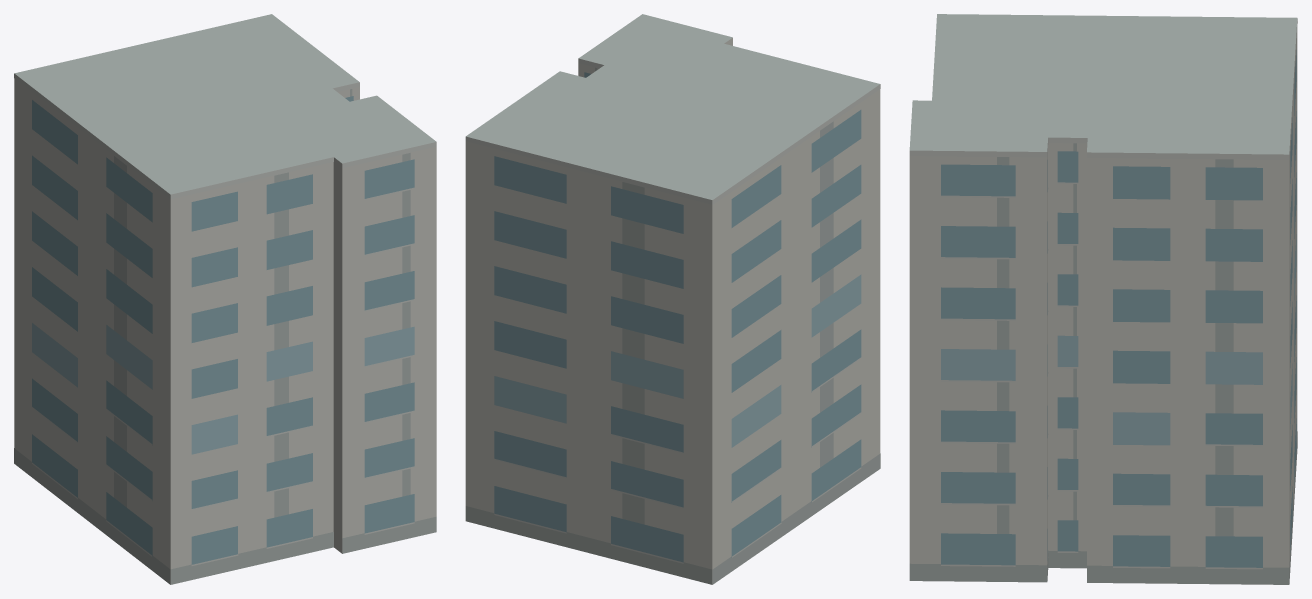
The model's file is survey-upis-32553594.glb.
3 renders of one model, left to right at view 1: azimuth 30°, elevation 25°; view 2: azimuth 150°, elevation 25°; view 3: azimuth 270°, elevation 25°, orthographic. The views are drawn at different scales.
Parts seen in each view (by area): view 1: survey-upis-32553594.tmp; view 2: survey-upis-32553594.tmp; view 3: survey-upis-32553594.tmp.
Part boxes in pixels (x1,y1,x2,y2): survey-upis-32553594.tmp: [14, 14, 436, 584]; survey-upis-32553594.tmp: [465, 14, 880, 584]; survey-upis-32553594.tmp: [909, 14, 1297, 584].
Bounding box in the file's own units: 13.52 × 19.3 × 15.77.
